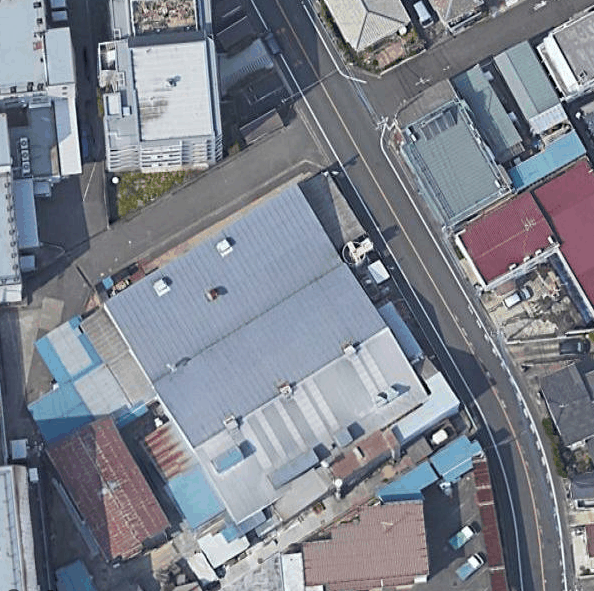flatroof: (100, 24, 228, 158)
